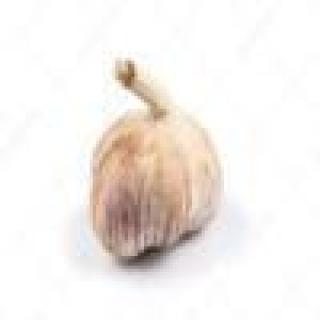Bawang Putih: (75, 52, 241, 260)
